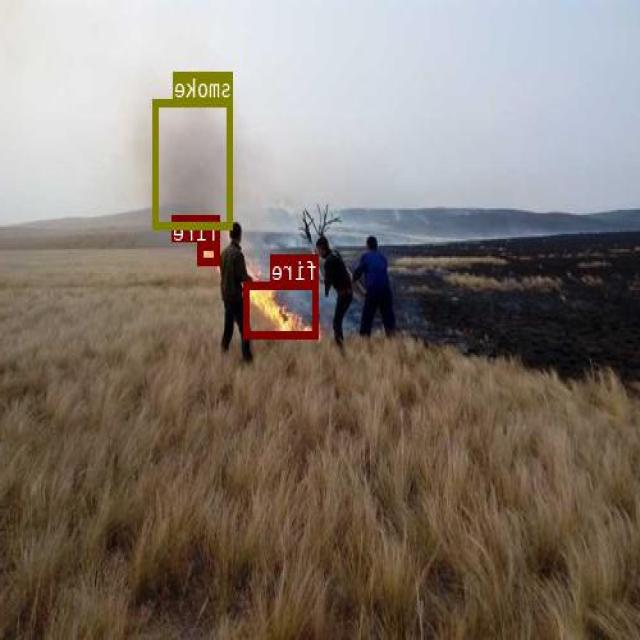fire: (245, 280, 319, 338), (200, 241, 220, 264)
smoke: (154, 98, 234, 227)
